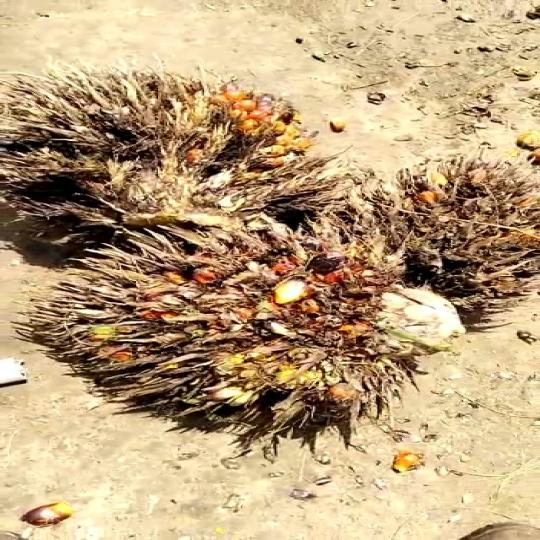terlalu masak: (33, 222, 462, 434), (0, 69, 370, 247)
